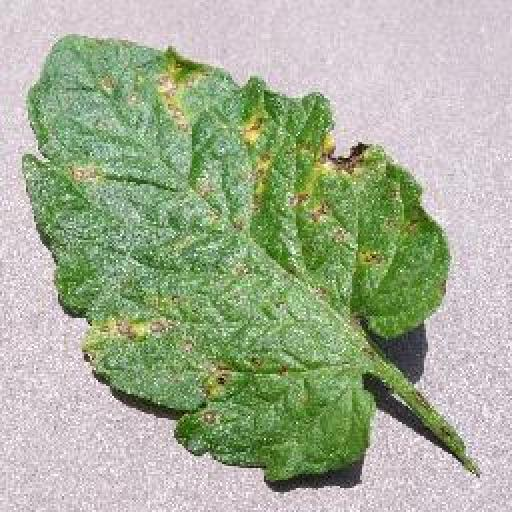Septoria: (23, 35, 451, 484)
